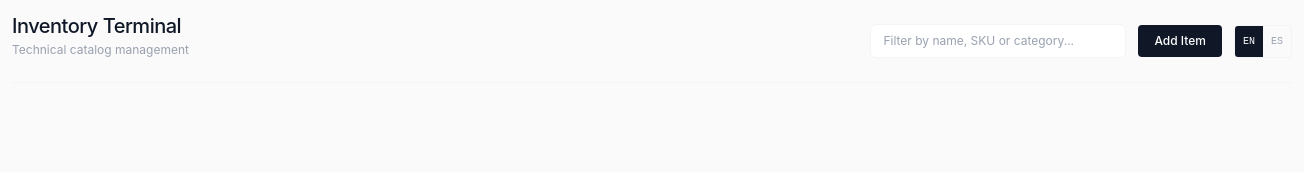
Test: Header language switcher › switches the UI to Spanish, remembers it and updates the page language
The width and height of the screenshot is (1304, 172).
Click the button "es". click: (1277, 41)
box: top-left (1263, 26), bottom-right (1291, 56)
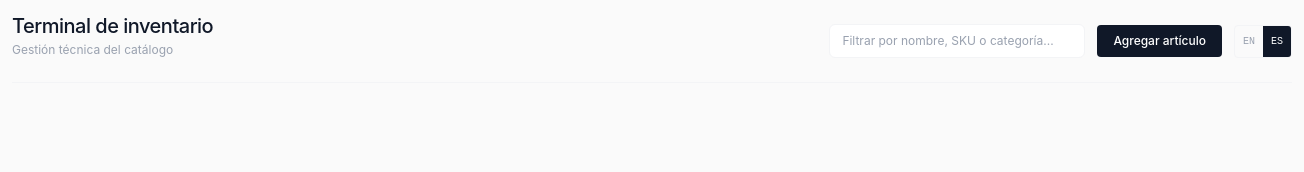
Check: the button "Agregar artículo" is shown, box top-left (1097, 25), bottom-right (1222, 57)
